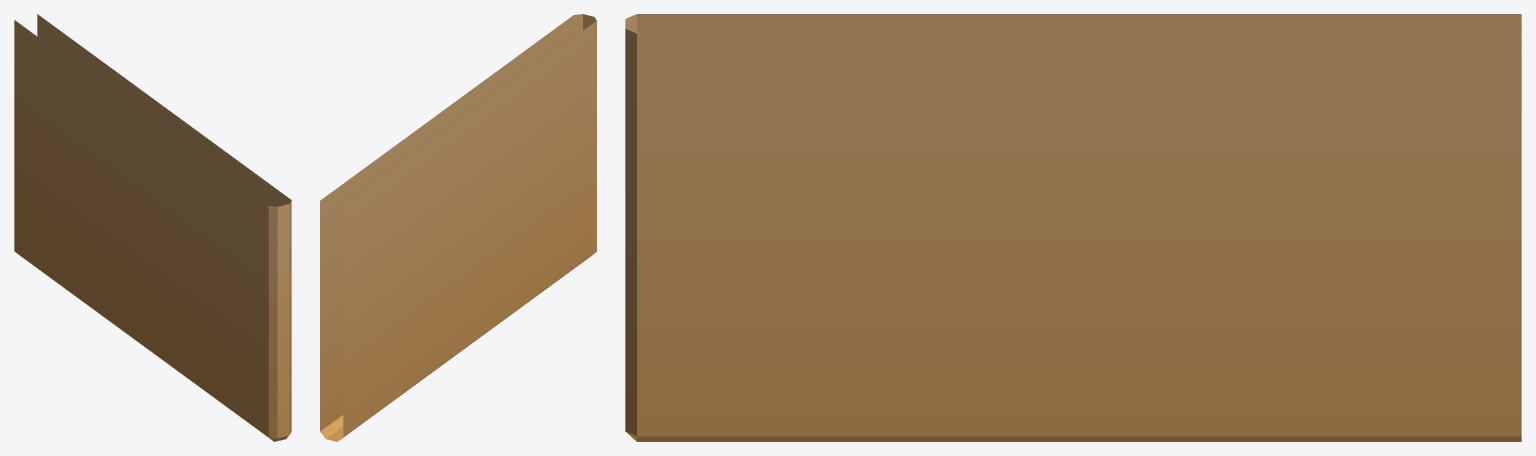
File: Temple door.obj
3 renders of one model, left to right at view 1: azimuth 30°, elevation 25°; view 2: azimuth 150°, elevation 25°; view 3: azimuth 270°, elevation 25°, orthographic. The views are drawn at different scales.
Parts seen in each view (by area): view 1: pCube129; view 2: pCube129; view 3: pCube129.
Part boxes in pixels (left/top/right/bottom): pCube129: left=14, top=14, right=291, bottom=441; pCube129: left=320, top=14, right=596, bottom=441; pCube129: left=625, top=14, right=1521, bottom=441.
Bounding box in the file's own units: 2.01 × 19.7 × 38.73.
1 material, 1 textured.
